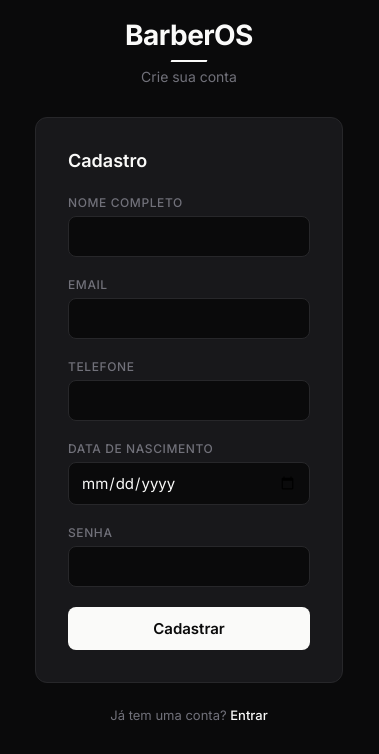
Test: CadastroCliente › mostra erro quando o cadastro falha (ex: email duplicado)
Type "Cliente Duplicado" into the field labelled "Nome completo". click: coordinates (189, 236)
box: [68,216,310,256]
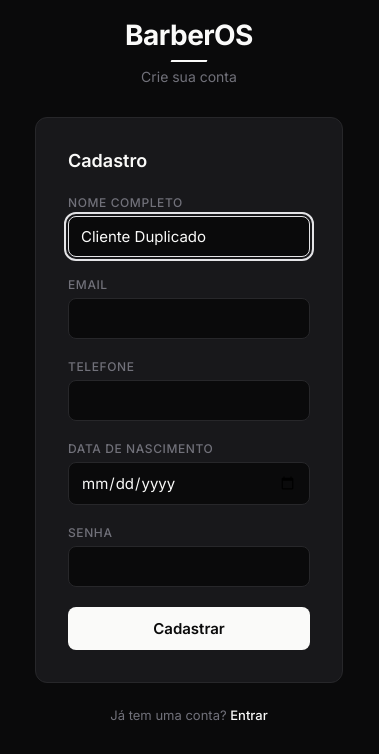
Type "duplicado@teste.com" into the field labelled "Email". click: coordinates (189, 318)
box: [68,298,310,338]
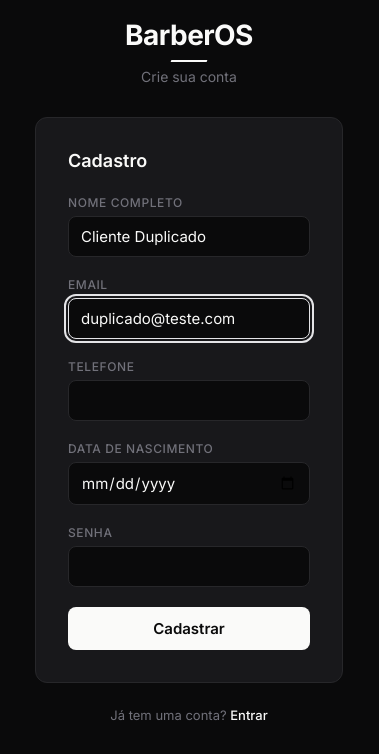
Type "1995-05-20" into the date field labelled "Data de nascimento". click: coordinates (189, 483)
box: [68,462,310,504]
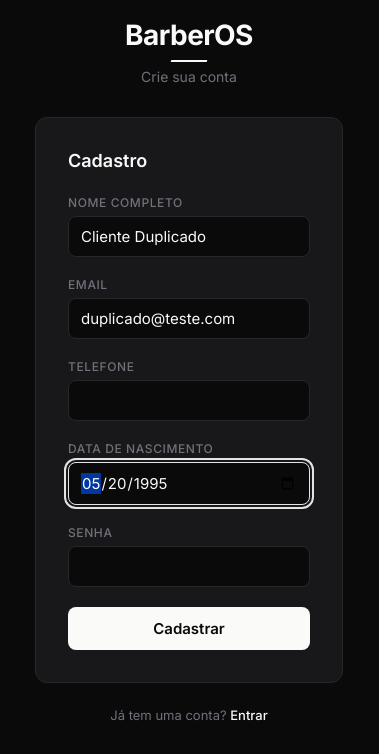
Type "senha123" into the password field labelled "Senha". click: coordinates (189, 566)
box: [68,546,310,586]
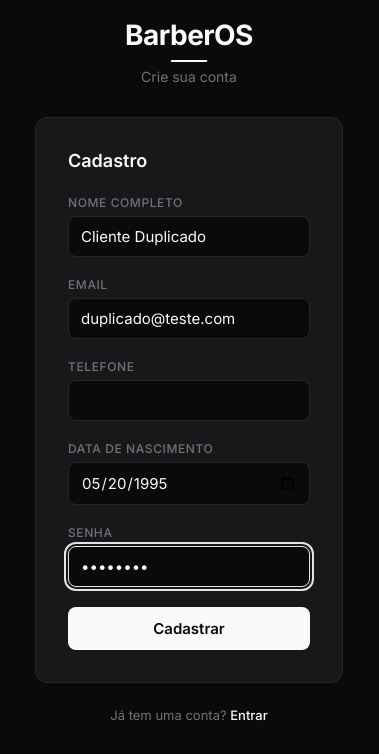
Click the button "Cadastrar". click: coordinates (189, 628)
box: [68,606,310,650]
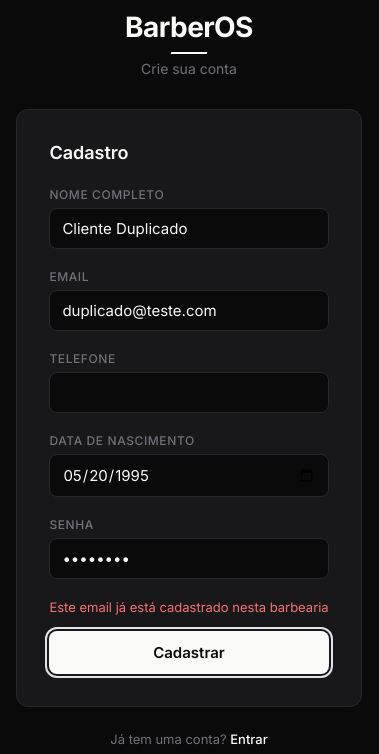
Check: the text "Este email já está cadastrado nesta barbearia" is shown, box [49,599,329,615]
